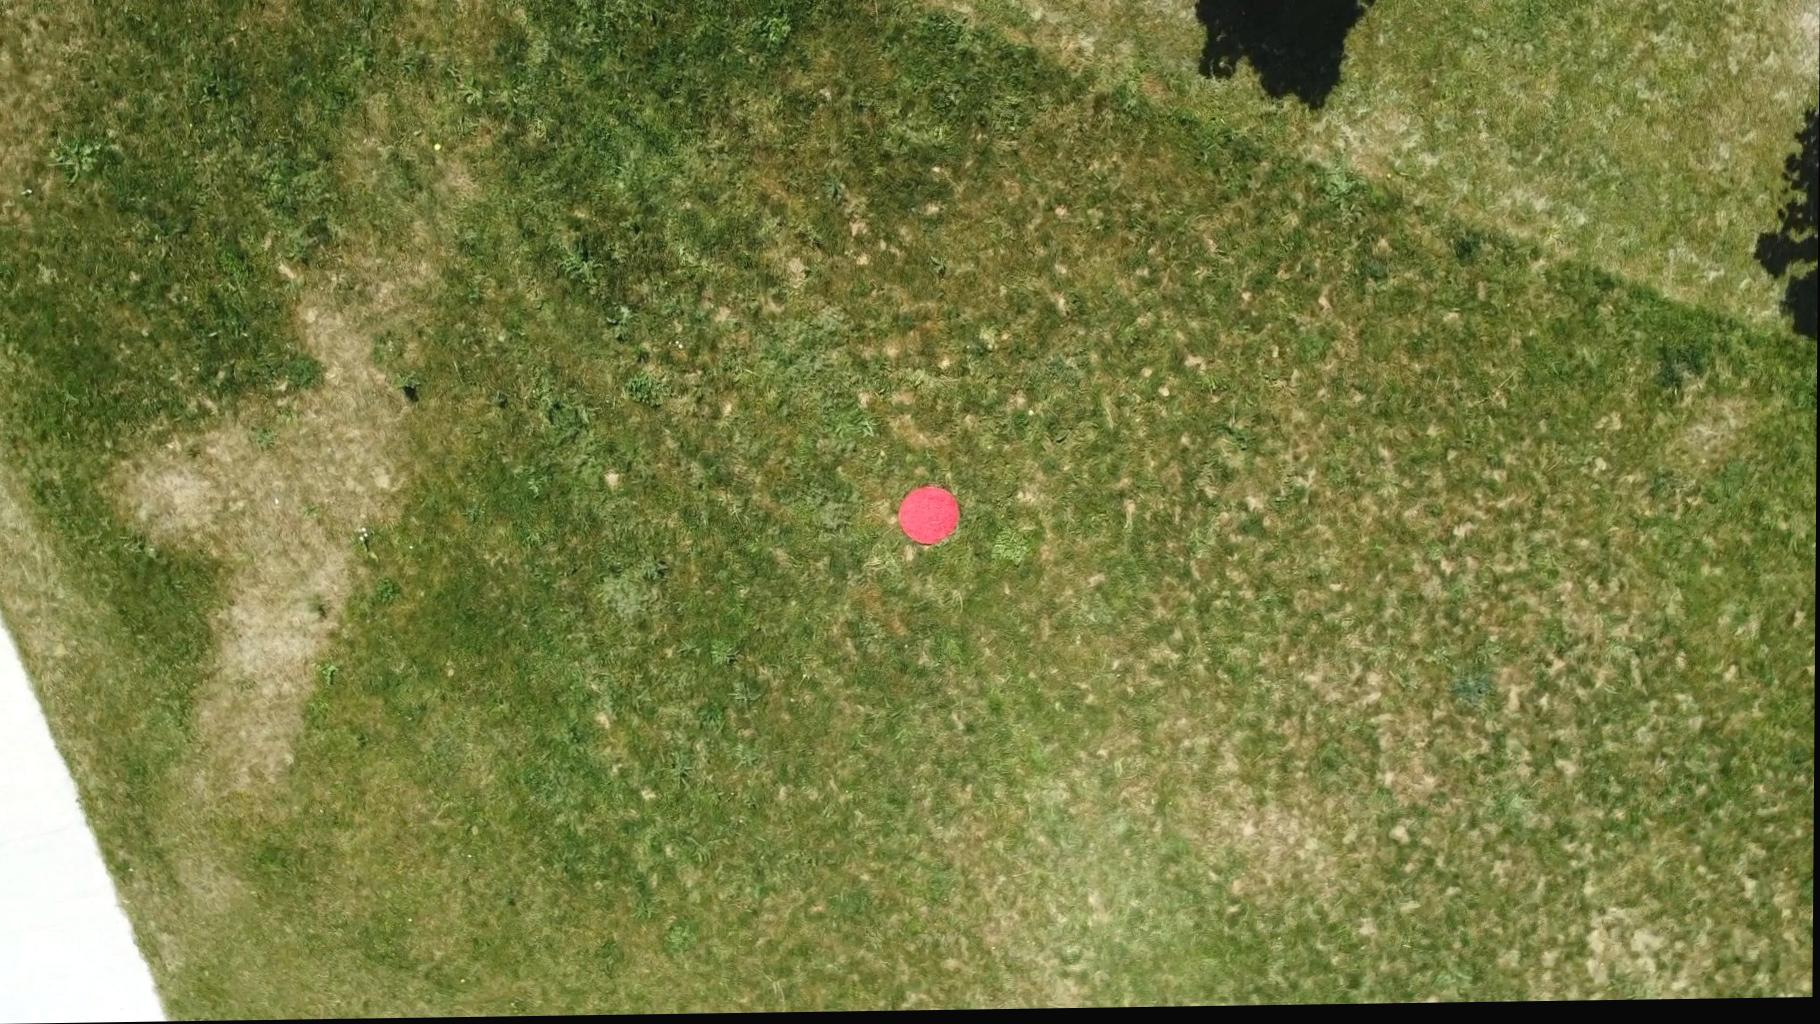Red: (896, 485, 962, 551)
